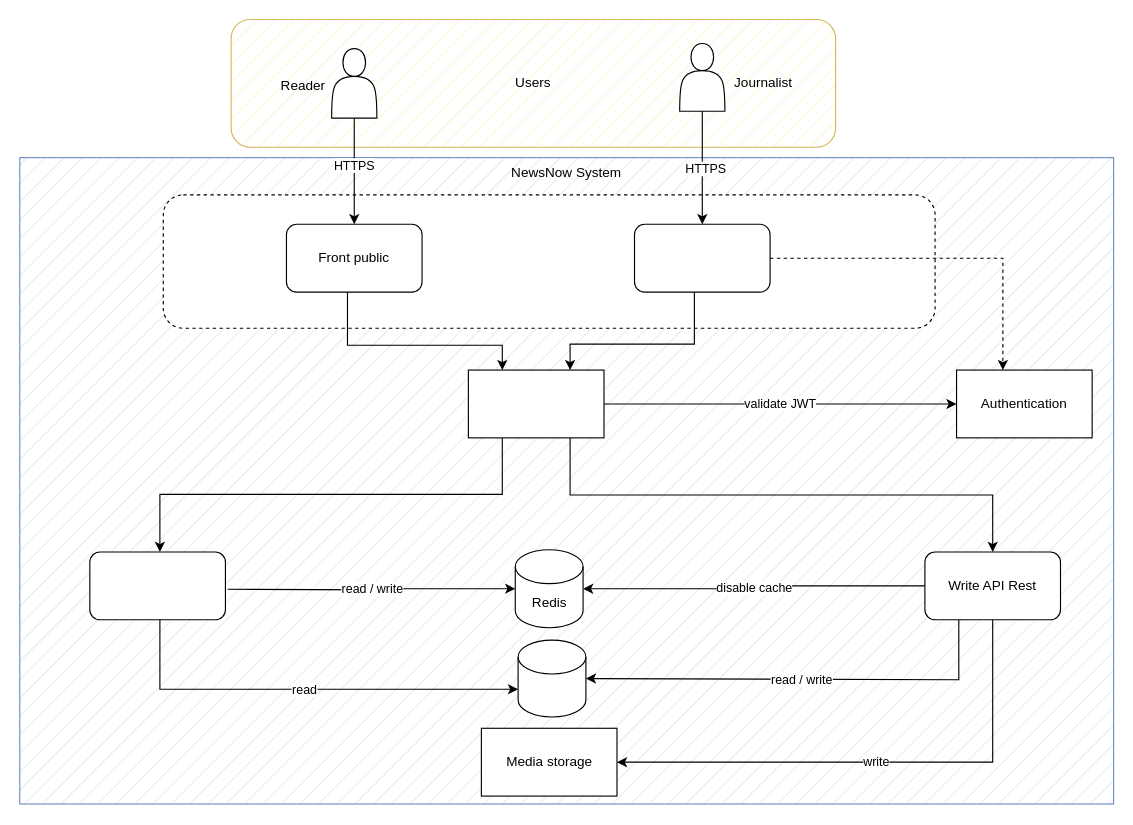
This 1133x825 diagram has some shape labels left out. The shapes that lost their labels are listed below. From the top down, each one's centre as x and y in pixels, then its label:
(x=701, y=257): Front Admin
(x=535, y=403): API Gateway
(x=157, y=585): Read API Rest
(x=551, y=678): Postgresql
